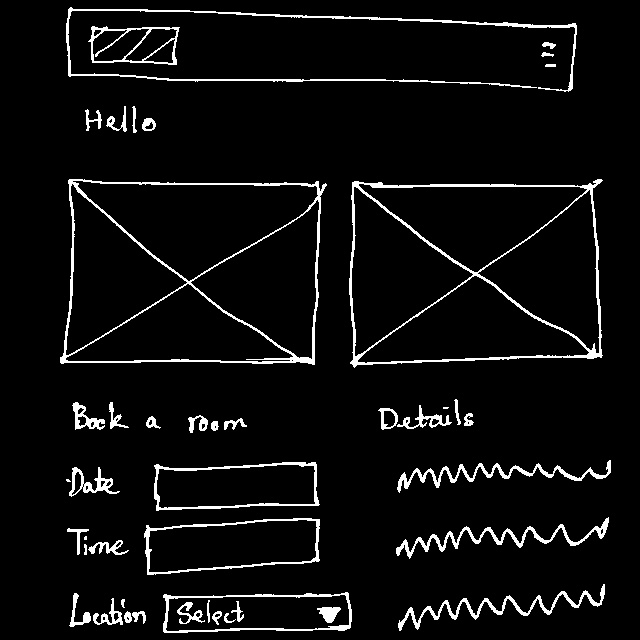image: (62, 173, 318, 368), (347, 174, 603, 369)
input: (143, 519, 320, 573), (157, 460, 319, 507)
navbar: (65, 4, 578, 93)
paragraph: (396, 462, 609, 619)
select: (163, 591, 346, 635)
